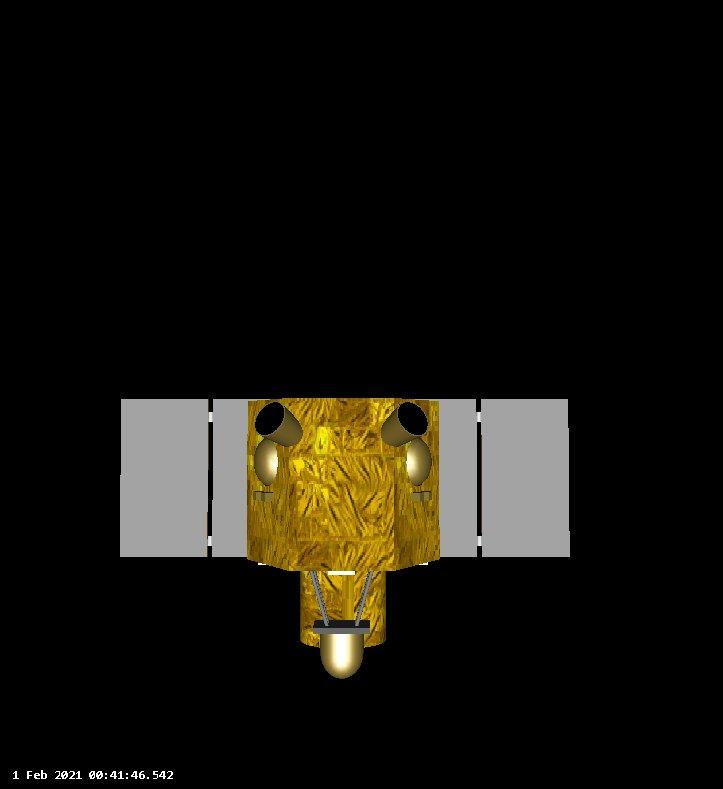body: (247, 396, 443, 569)
solar: (432, 396, 573, 563), (115, 393, 250, 563)
thruster: (254, 399, 303, 449), (380, 403, 430, 446)
